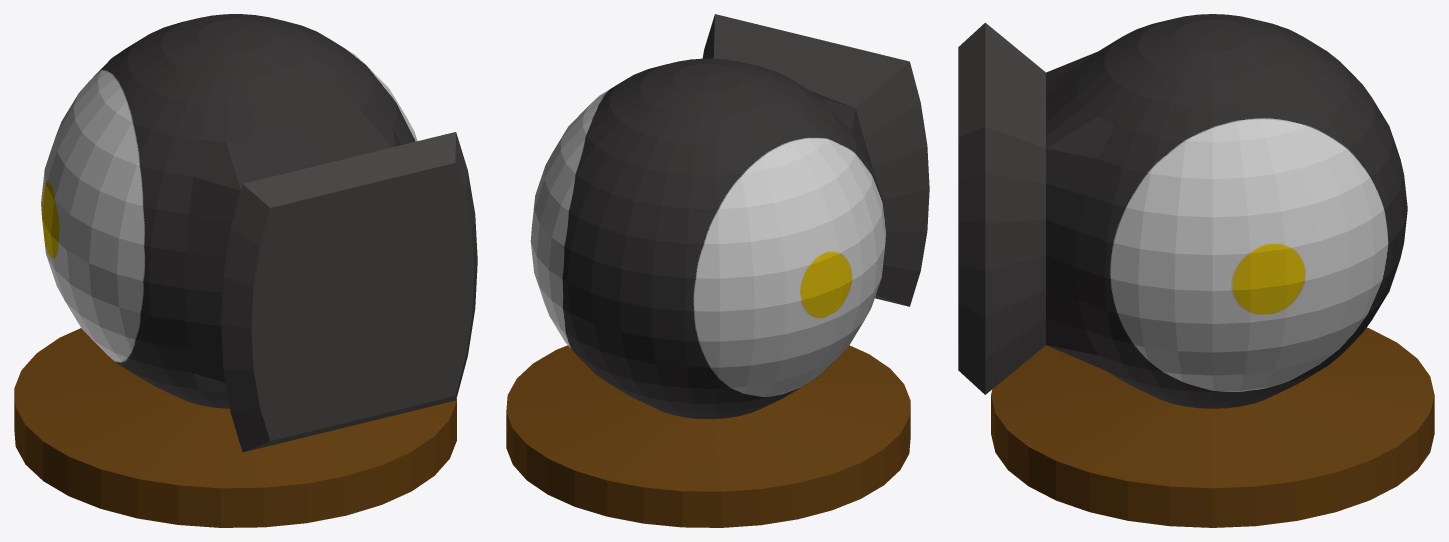
Rendered from Battery.fbx.
The picture shows the model from 3 angles, left to right: view 1: azimuth 30°, elevation 25°; view 2: azimuth 150°, elevation 25°; view 3: azimuth 270°, elevation 25°; orthographic projection. The views are drawn at different scales.
Visible parts, largest first — view 1: 球; view 2: 球; view 3: 球.
Boxes of the visible parts, x1,y1,x2,y2 form: 球: (14, 14, 477, 527); 球: (506, 14, 929, 527); 球: (958, 14, 1434, 527).
Bounding box in the file's own units: 227 × 228 × 244.
